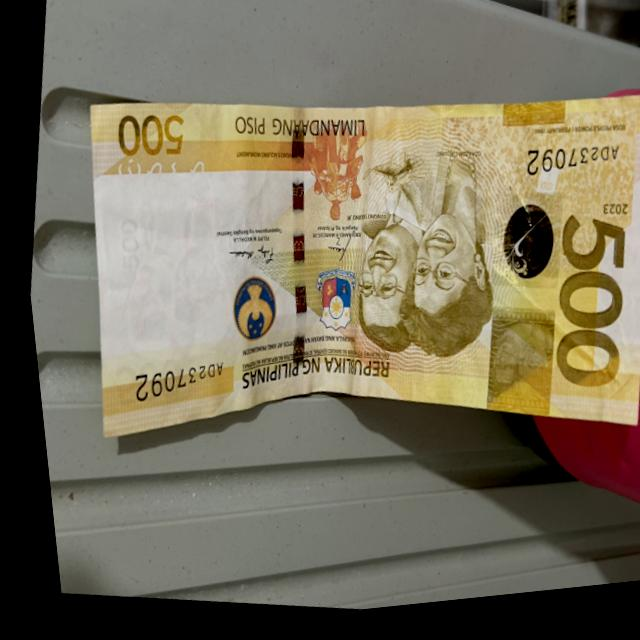concealed_value: (471, 319, 551, 428)
optically_variable_device: (489, 208, 557, 294)
security_thread: (251, 121, 340, 386)
see_through_mark: (108, 154, 206, 207)
value: (533, 215, 640, 400)
value_watermark: (104, 215, 146, 283)
watermark: (90, 189, 239, 365)
